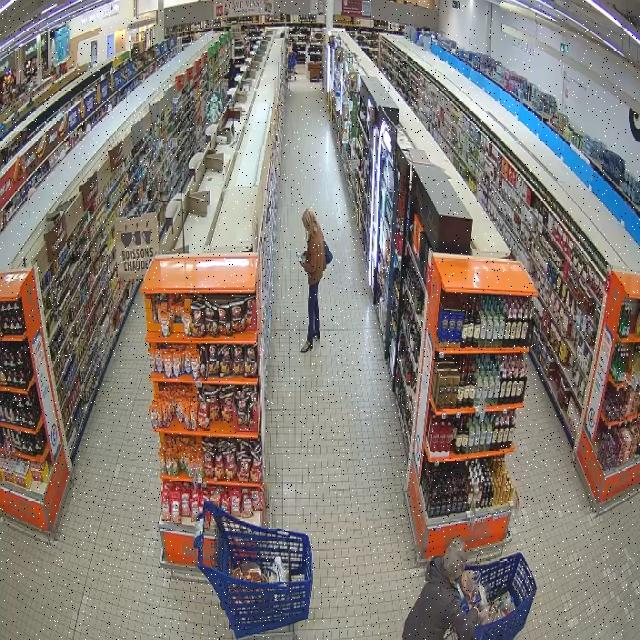article: (296, 252, 304, 261)
bags: (324, 241, 333, 265)
hands: (300, 259, 306, 267)
person: (403, 539, 485, 639), (300, 208, 327, 352)
